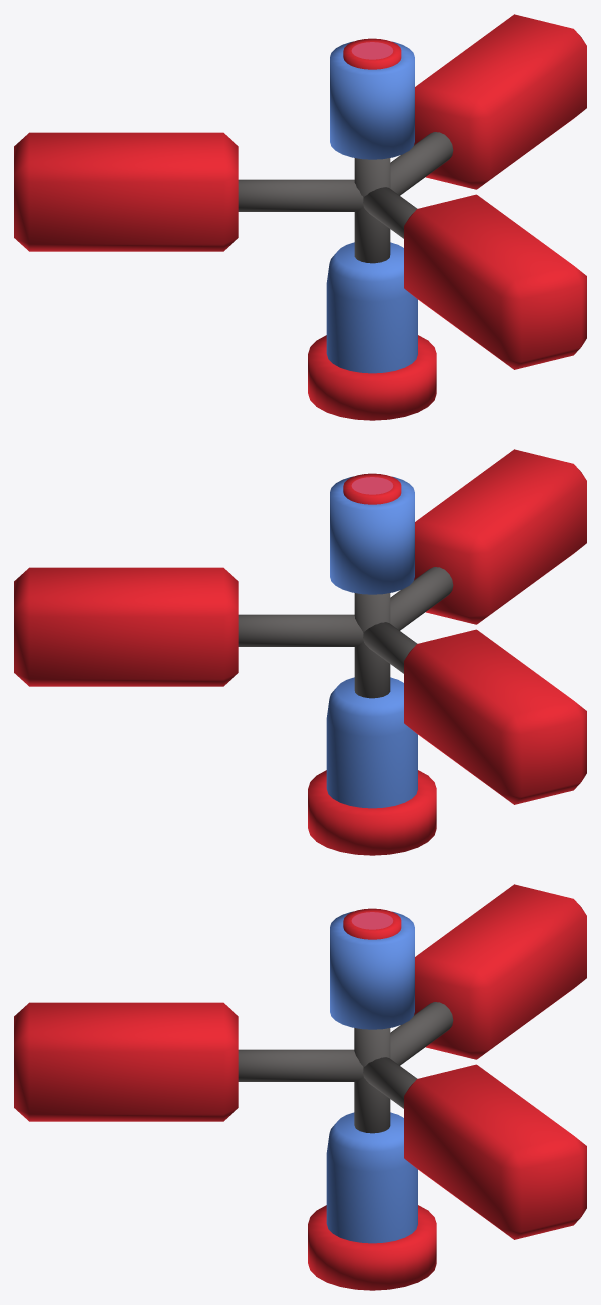
File: Obstacle 12 V1.fbx
3 renders of one model, top to bottom at view 1: azimuth 30°, elevation 25°; view 2: azimuth 150°, elevation 25°; view 3: azimuth 270°, elevation 25°, orthographic.
Parts seen in each view (by area): view 1: O12 Part 1, O12 Part 2; view 2: O12 Part 1, O12 Part 2; view 3: O12 Part 1, O12 Part 2.
Boxes of the visible parts, box(x1,y1,x2,y2) form: O12 Part 1: box(14, 14, 586, 369); O12 Part 2: box(308, 38, 436, 420); O12 Part 1: box(14, 449, 586, 804); O12 Part 2: box(308, 473, 436, 855); O12 Part 1: box(14, 884, 586, 1239); O12 Part 2: box(308, 908, 436, 1290).
Size of the model in its own units: 229 by 132 by 200.
1 material, 1 textured.
